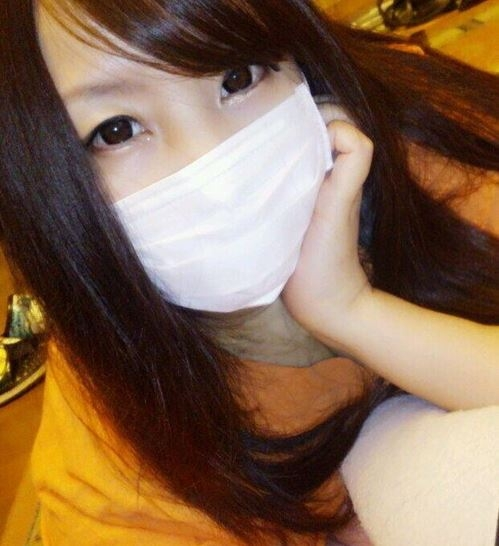face_mask: (70, 1, 317, 306)
